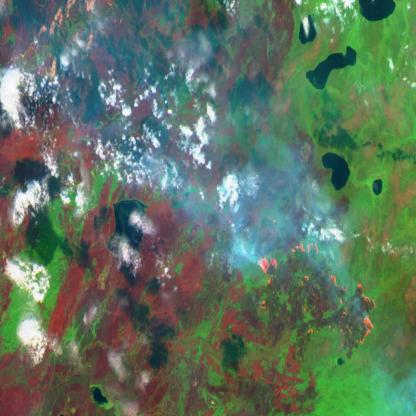fire: (256, 235, 378, 354)
